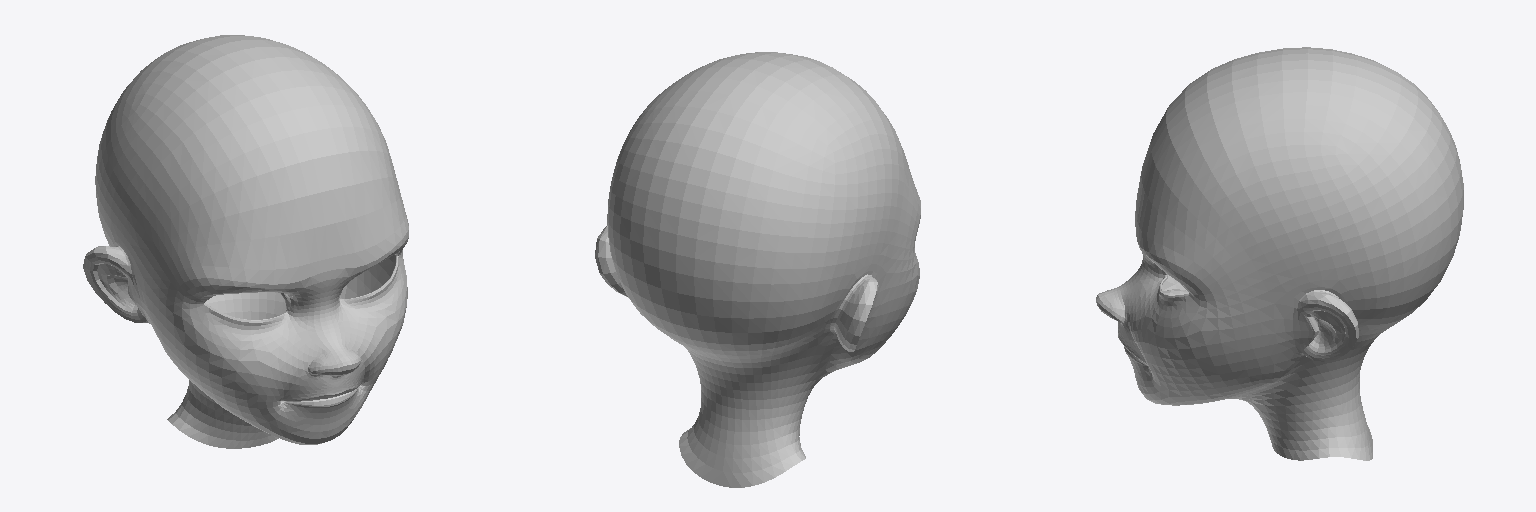
File: pos16.obj
The picture shows the model from 3 angles: view 1: azimuth 30°, elevation 25°; view 2: azimuth 150°, elevation 25°; view 3: azimuth 270°, elevation 25°; orthographic projection.
Visible parts, largest first — view 1: Mesh; view 2: Mesh; view 3: Mesh.
Part boxes in pixels (left/top/right/bottom): Mesh: left=83, top=35, right=408, bottom=448; Mesh: left=595, top=52, right=920, bottom=487; Mesh: left=1096, top=47, right=1463, bottom=460.
Size of the model in its own units: 23.75 by 32.31 by 27.53.